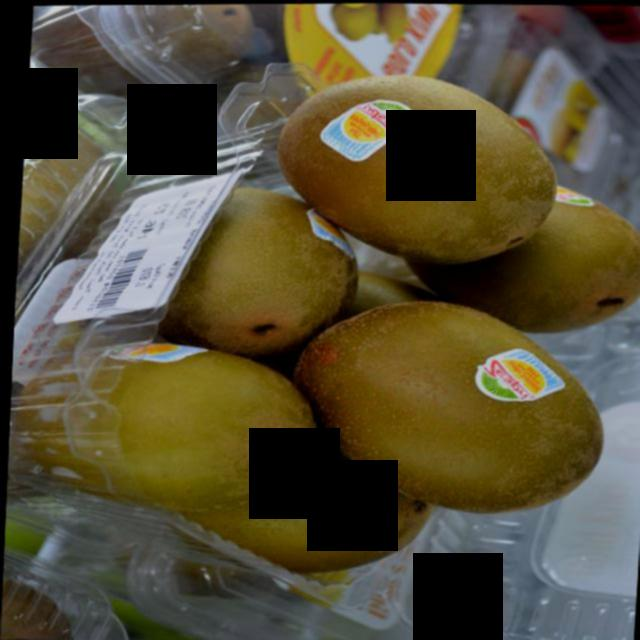kiwi: (285, 295, 613, 519), (269, 70, 561, 269), (16, 340, 321, 514), (389, 154, 640, 342), (167, 417, 438, 579), (153, 183, 359, 366)
